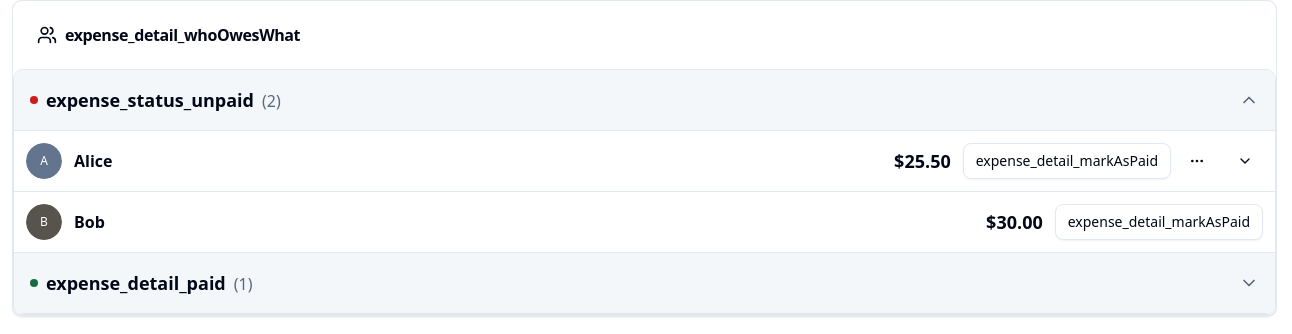
ExpenseParticipants › shows apply credit option when unapplied funds exist
Click the button named "More actions" at (1197,161), box left=1179, top=143, right=1215, bottom=179
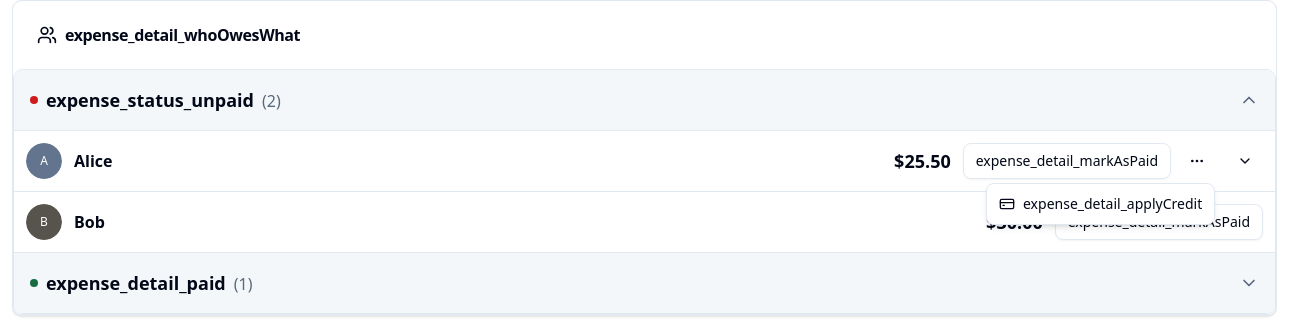
Expected: the text "expense_detail_applyCredit" is shown, left=1023, top=194, right=1202, bottom=214
